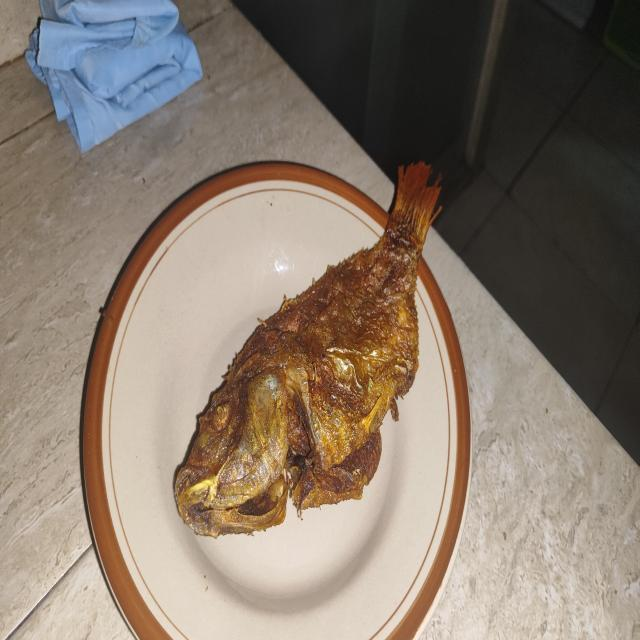ikan_mujair: (175, 162, 440, 538)
